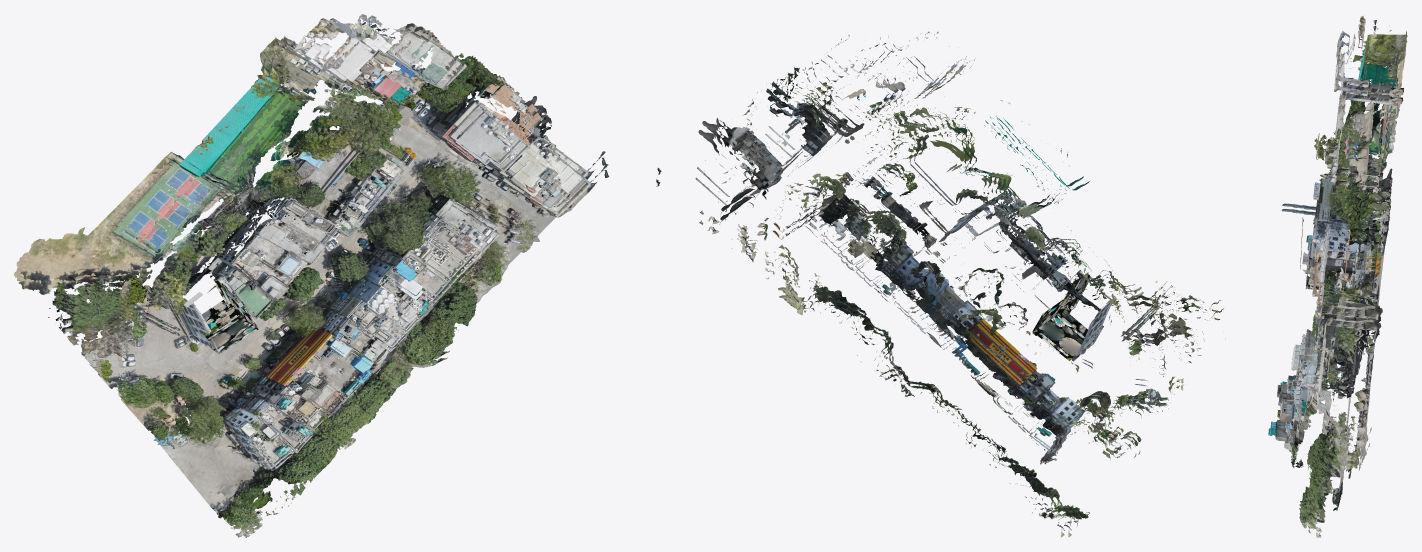
Rendered from outdoor_model.glb.
3 views of the same model, side by side, from view 1: azimuth 30°, elevation 25°; view 2: azimuth 150°, elevation 25°; view 3: azimuth 270°, elevation 25° (orthographic). The views are drawn at different scales.
Parts seen in each view (by area): view 1: Mesh_0.001, Mesh_0.003; view 2: Mesh_0.001, Mesh_0.003; view 3: Mesh_0.001, Mesh_0.003.
Part boxes in pixels (x1,y1,x2,y2): Mesh_0.001: (16,15,608,537); Mesh_0.003: (14,14,606,537); Mesh_0.001: (656,31,1220,537); Mesh_0.003: (657,31,1223,537); Mesh_0.001: (1268,23,1407,532); Mesh_0.003: (1268,15,1407,537).
Size of the model in its own units: 8.1 by 6.35 by 1.39.
63 materials, 62 textured.
